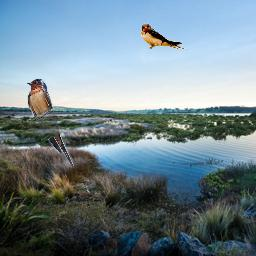Swallow: (27, 78, 74, 168), (140, 23, 187, 52)
